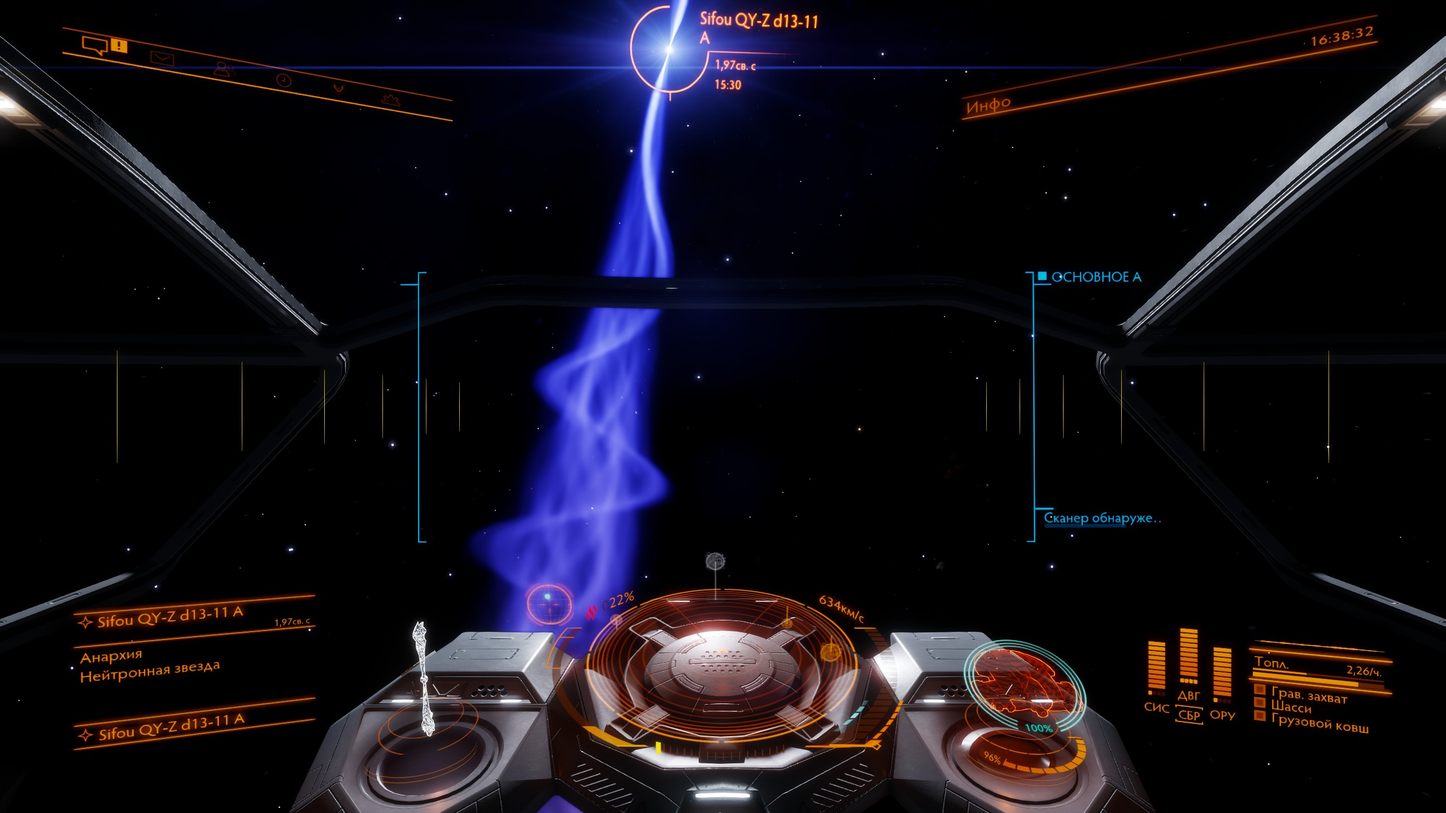jetcone: (473, 86, 668, 618)
